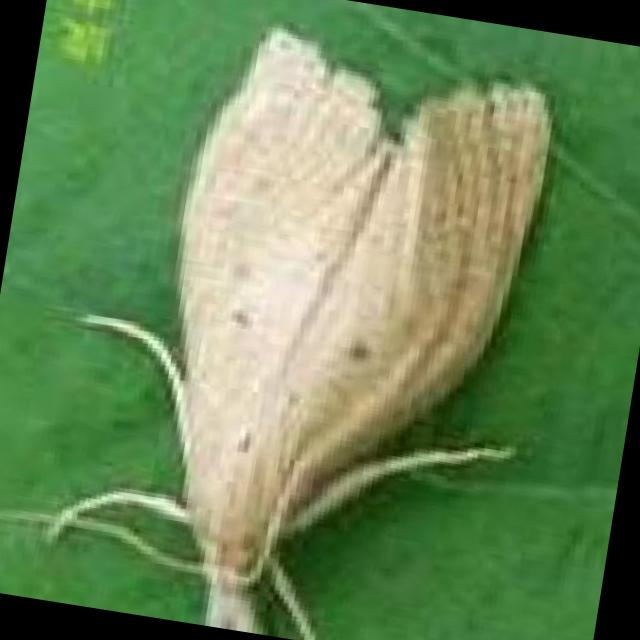stem-borer: (40, 0, 587, 640)
